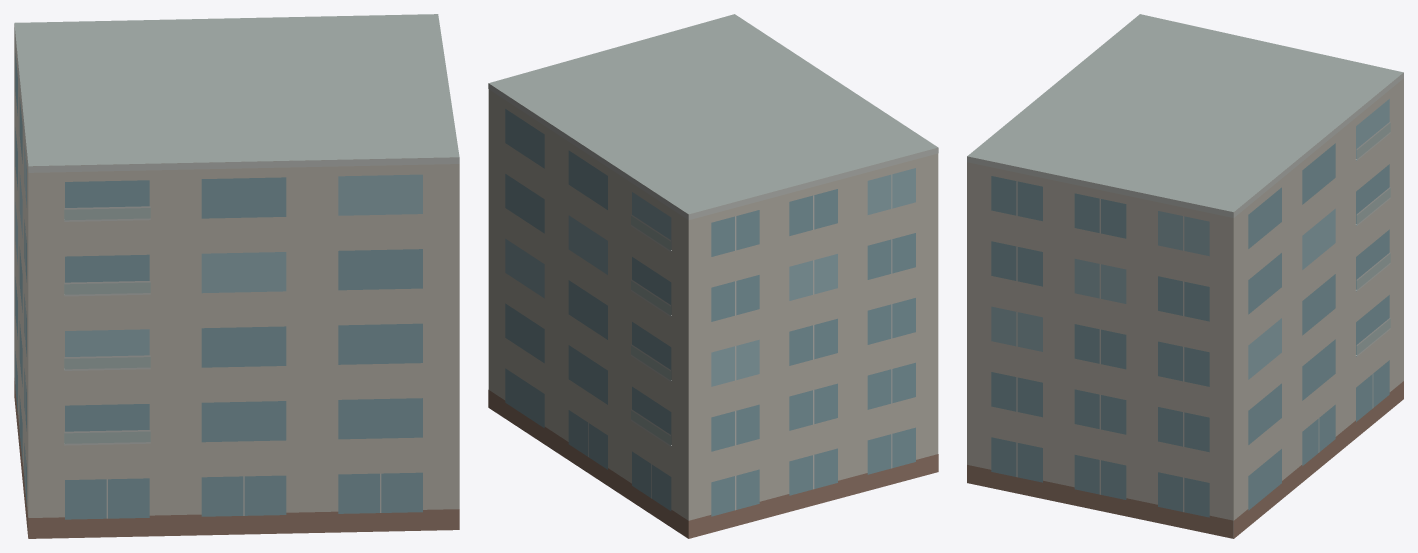
The model's file is survey-upis-32989728.glb.
3 renders of one model, left to right at view 1: azimuth 30°, elevation 25°; view 2: azimuth 150°, elevation 25°; view 3: azimuth 270°, elevation 25°, orthographic. The views are drawn at different scales.
Parts seen in each view (by area): view 1: survey-upis-32989728.tmp; view 2: survey-upis-32989728.tmp; view 3: survey-upis-32989728.tmp.
Part boxes in pixels (x1,y1,x2,y2): survey-upis-32989728.tmp: (14, 14, 459, 538); survey-upis-32989728.tmp: (488, 14, 938, 538); survey-upis-32989728.tmp: (967, 14, 1403, 538).
Bounding box in the file's own units: 17.62 × 13.54 × 16.41.
